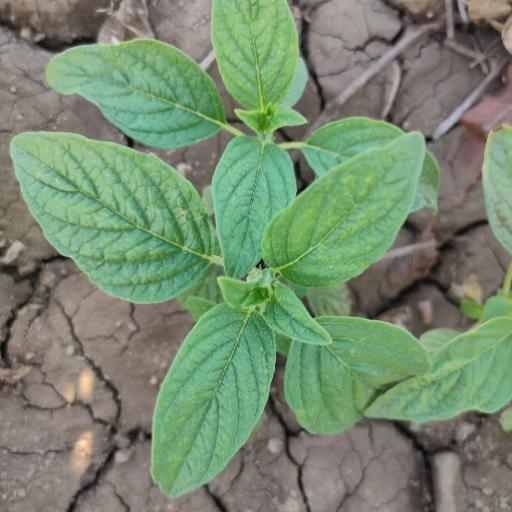crop: (13, 1, 512, 495)
